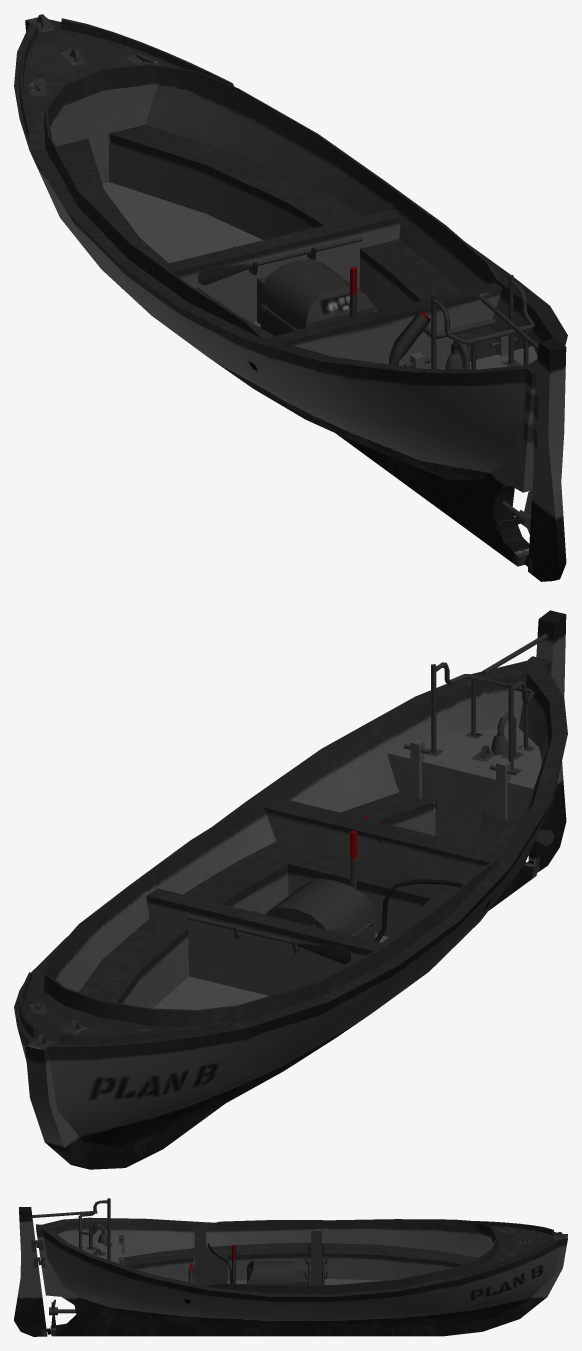
3 renders of one model, top to bottom at view 1: azimuth 30°, elevation 25°; view 2: azimuth 150°, elevation 25°; view 3: azimuth 270°, elevation 25°, orthographic. The views are drawn at different scales.
Parts seen in each view (by area): view 1: LP_Hull, LP_Tail; view 2: LP_Hull, LP_Tail; view 3: LP_Hull, LP_Tail, LP_Propeller, LP_Lever.
Boxes of the visible parts, box(x1,y1,x2,y2) form: LP_Hull: box(14, 14, 567, 566); LP_Tail: box(481, 297, 566, 581); LP_Hull: box(14, 656, 567, 1169); LP_Tail: box(481, 610, 566, 872); LP_Hull: box(36, 1198, 567, 1336); LP_Tail: box(14, 1207, 97, 1336); LP_Propeller: box(49, 1299, 75, 1328); LP_Lever: box(231, 1244, 235, 1283).
Size of the model in its own units: 257 by 211 by 833.
Materials: 1 (1 with a texture image).
